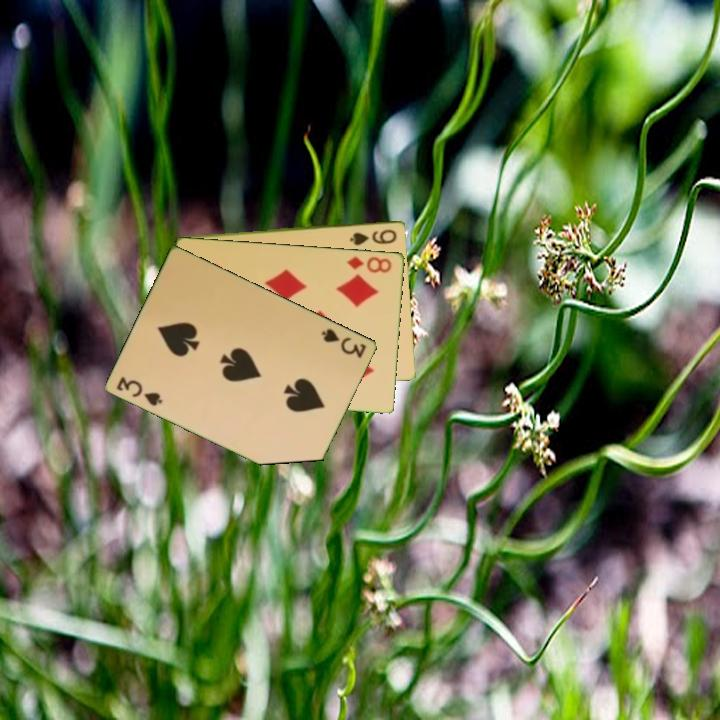3s: (113, 373, 166, 409), (318, 325, 370, 361)
8d: (344, 253, 395, 275)
9s: (346, 225, 400, 248)
